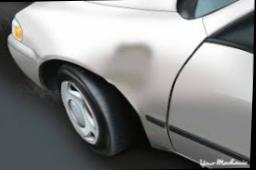Fender: (96, 36, 165, 103)
